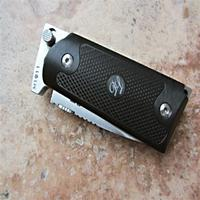knife: (26, 16, 182, 158)
